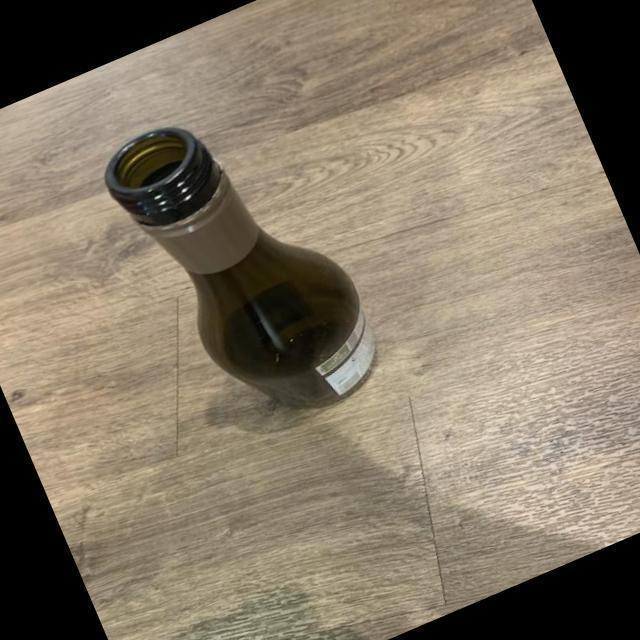BotolKaca: (103, 124, 376, 410)
